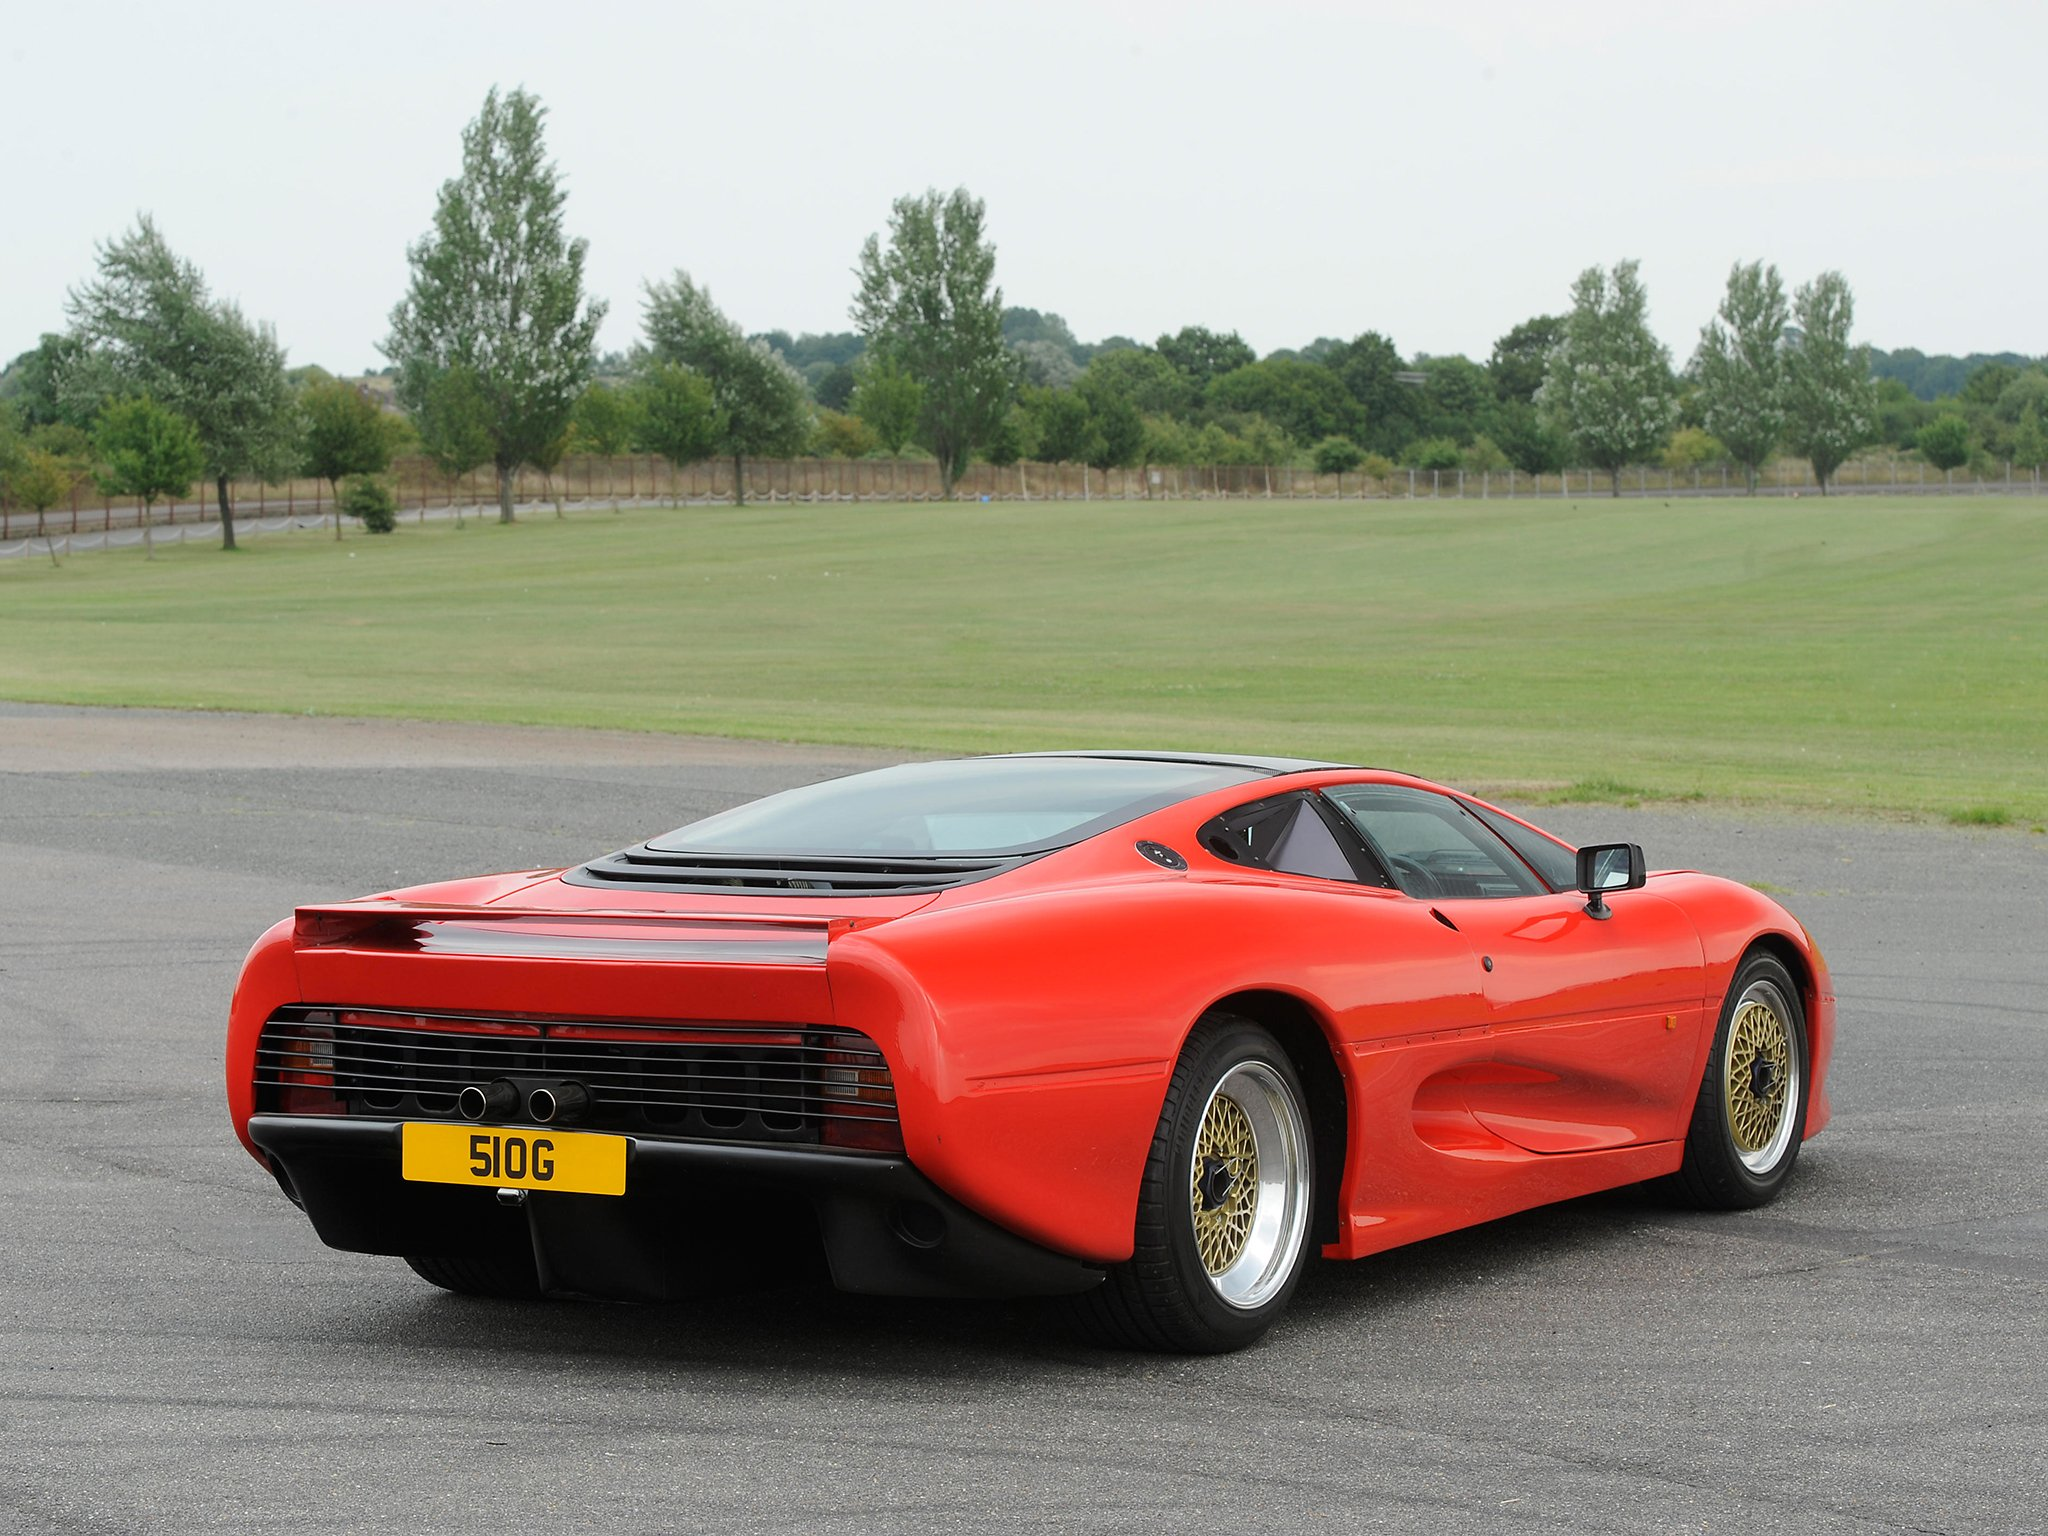headlight: (805, 1013, 901, 1142), (271, 991, 364, 1108)
wheel: (1121, 1016, 1309, 1355), (1667, 947, 1808, 1210), (423, 1242, 487, 1300)
